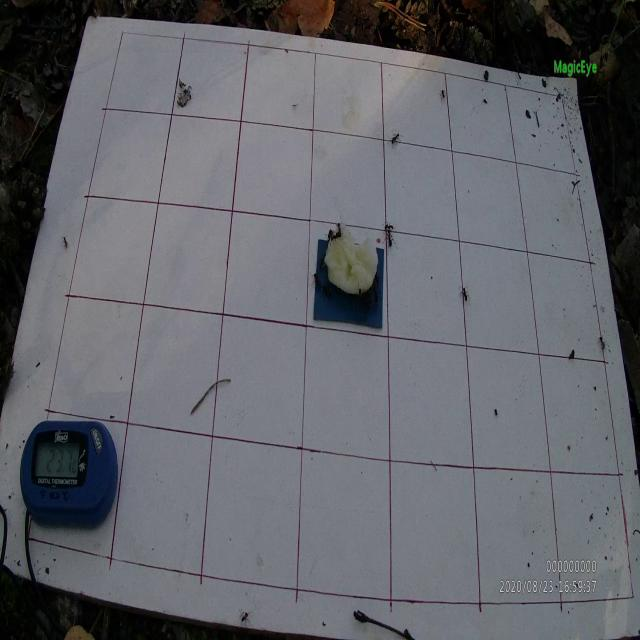Ant: (382, 229, 398, 256), (386, 128, 404, 148), (458, 285, 472, 306), (237, 608, 252, 625), (330, 231, 344, 246), (311, 272, 322, 290), (598, 336, 607, 353), (382, 221, 394, 231), (439, 89, 448, 102), (61, 235, 68, 249)
